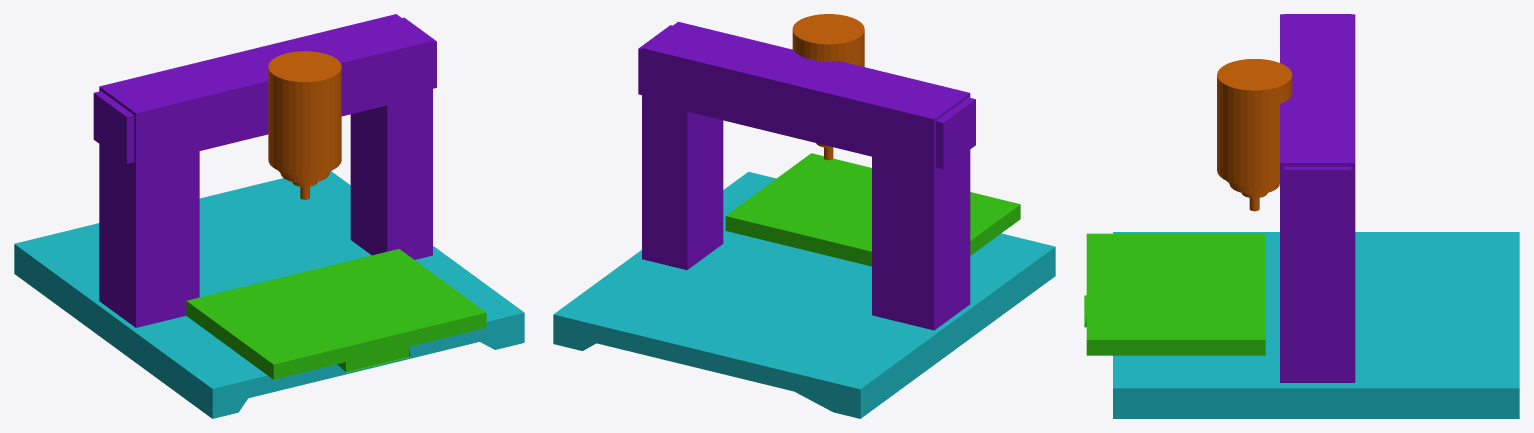
File: laba3.obj
3 views of the same model, side by side, from view 1: azimuth 30°, elevation 25°; view 2: azimuth 150°, elevation 25°; view 3: azimuth 270°, elevation 25° (orthographic). The views are drawn at different scales.
Parts seen in each view (by area): view 1: portal, stanina, Table, spindle; view 2: portal, stanina, Table, spindle; view 3: stanina, portal, Table, spindle.
Part boxes in pixels (x1,y1,x2,y2): portal: (93,14,436,327); stanina: (14,171,524,418); Table: (186,249,486,379); spindle: (268,51,341,199); portal: (638,21,975,330); stanina: (553,171,1055,418); Table: (725,153,1020,266); spindle: (792,14,864,160); stanina: (1113,232,1519,418); portal: (1280,14,1355,382); Table: (1084,233,1265,355); spindle: (1217,59,1292,211).
Bounding box in the file's own units: 9.9 × 7.89 × 11.57.
